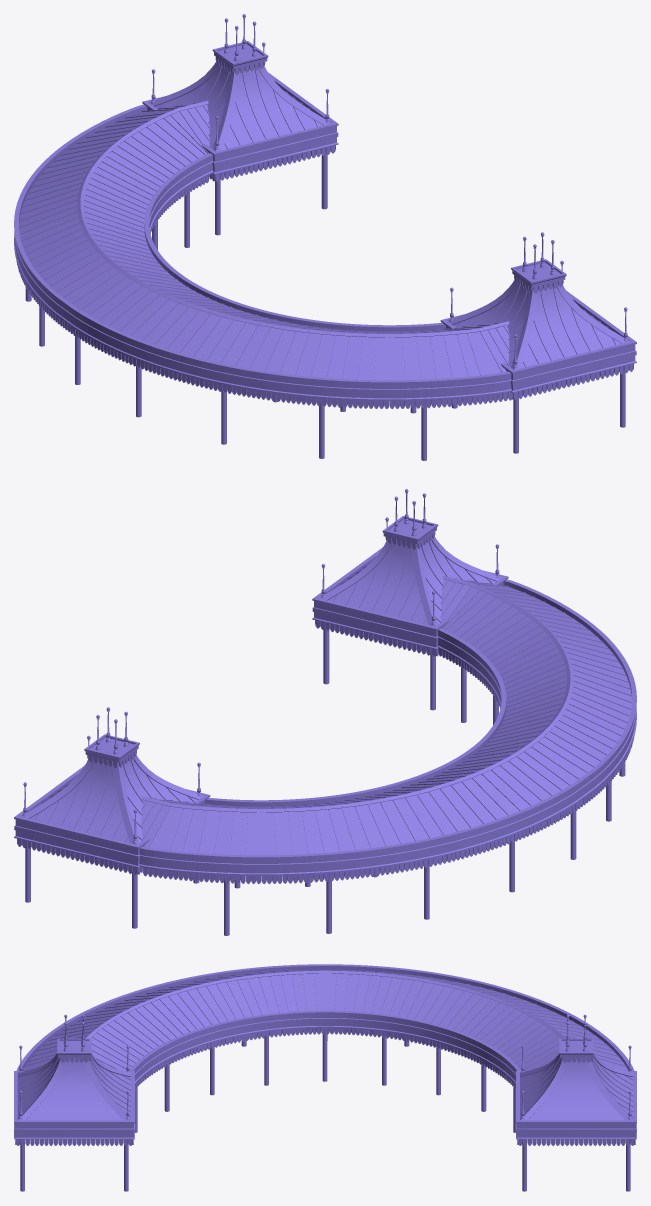
The model's file is Carouselle_roof.fbx.
The picture shows the model from 3 angles, top to bottom: view 1: azimuth 30°, elevation 25°; view 2: azimuth 150°, elevation 25°; view 3: azimuth 270°, elevation 25°; orthographic projection. The views are drawn at different scales.
Parts seen in each view (by area): view 1: Carouselle_roof; view 2: Carouselle_roof; view 3: Carouselle_roof.
Part boxes in pixels (bbox=[...]): Carouselle_roof: bbox=[14, 14, 636, 460]; Carouselle_roof: bbox=[14, 489, 636, 935]; Carouselle_roof: bbox=[14, 964, 636, 1191].
Bounding box in the file's own units: 4355 × 1917 × 7211.
